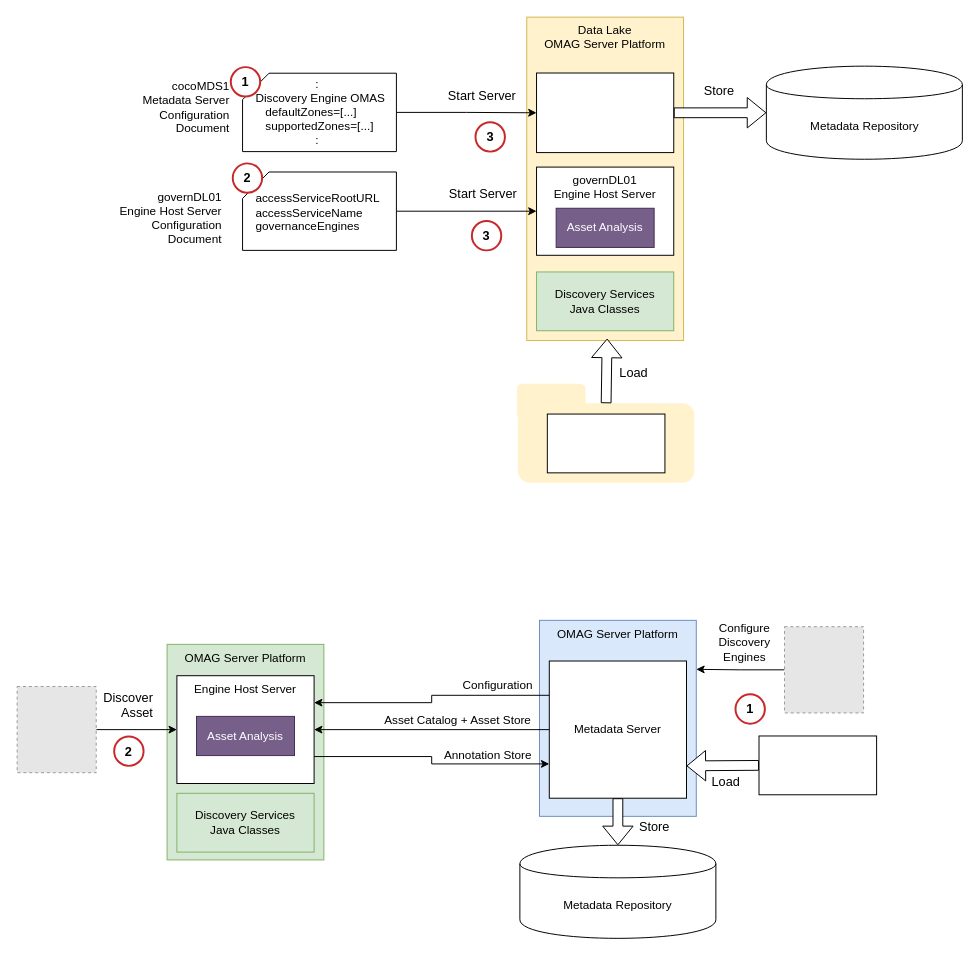
Some shapes in this 980 by 956 pixel diagram are drawn without their labels. Grey dashed boxes stand in for pictures. Each missing label, with the centre of its shape:
".../lib" goes at (550,401).
"cocoMDS1 Metadata Server" goes at (605,112).
"Discovery Engine Open Metadata Archive File" goes at (817,765).
"Discovery Service Java Archive (JAR) file" goes at (605,443).
